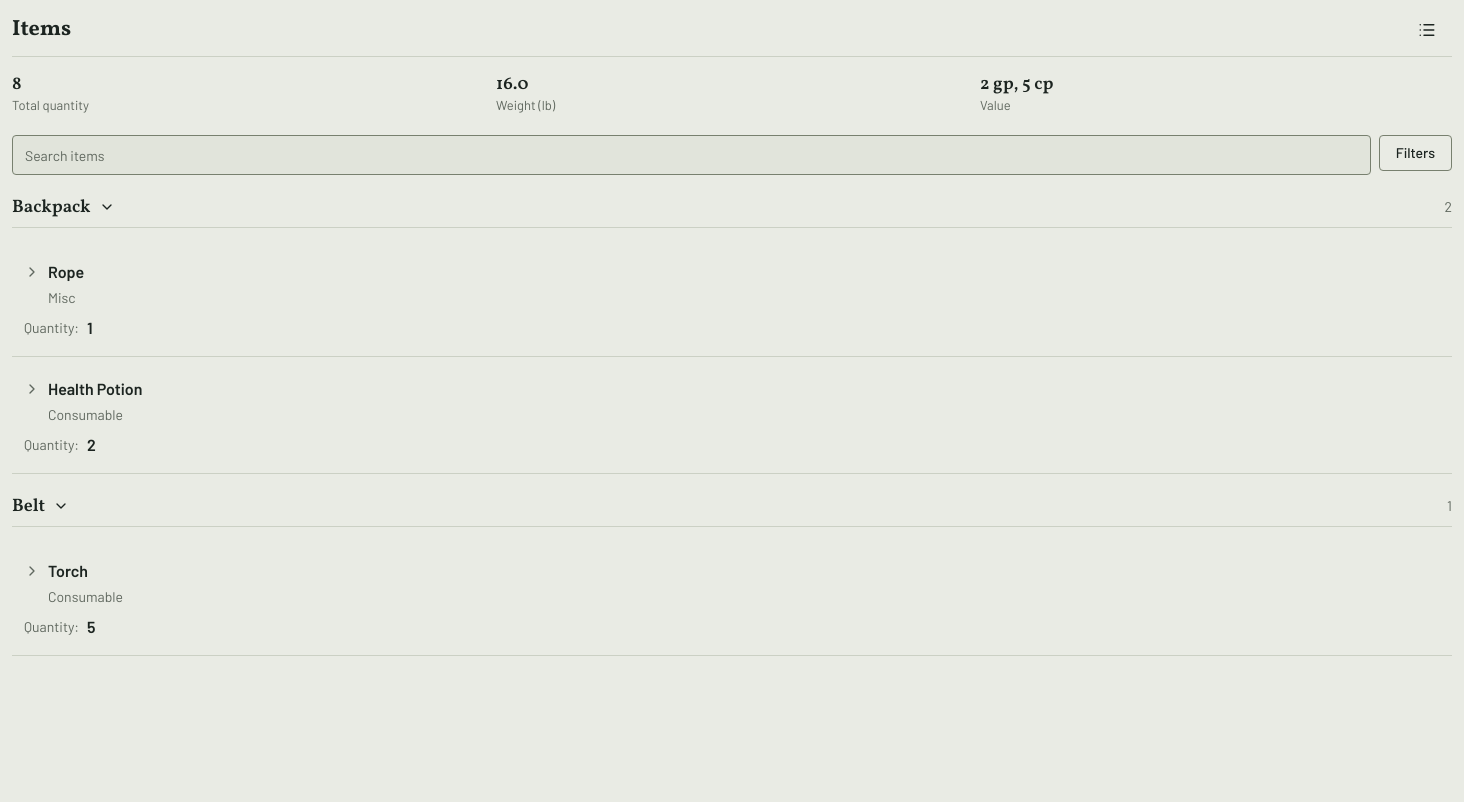
Test: InventoryManager › keeps manager details visible when a filtered row remounts
This screenshot has width=1464, height=802.
Step 1. Click the button named "Show item details" → (1427, 30), box left=1402, top=12, right=1452, bottom=48
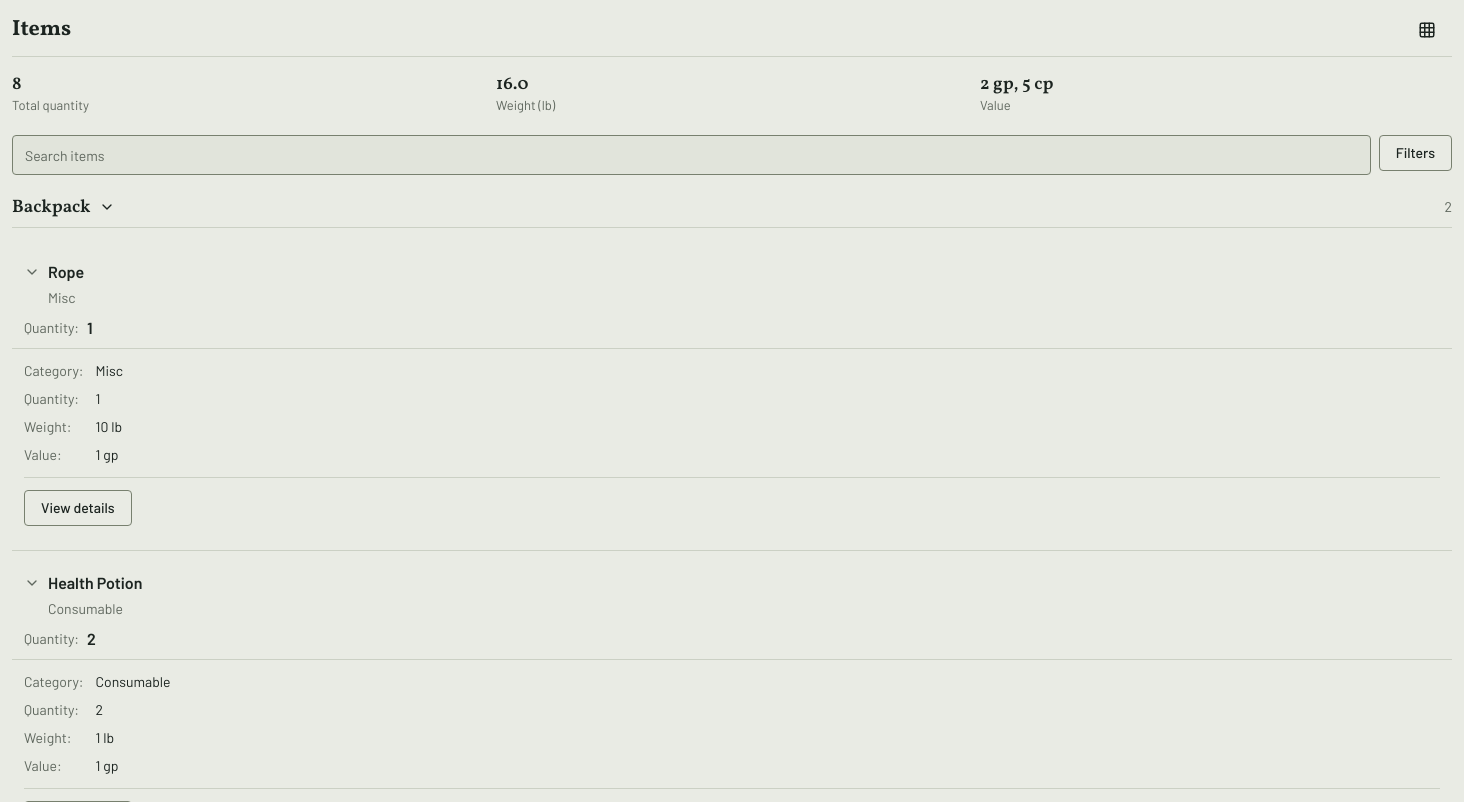
Step 2. Type "Torch" into the search field labelled "Search items" → (691, 155), box left=12, top=135, right=1371, bottom=175
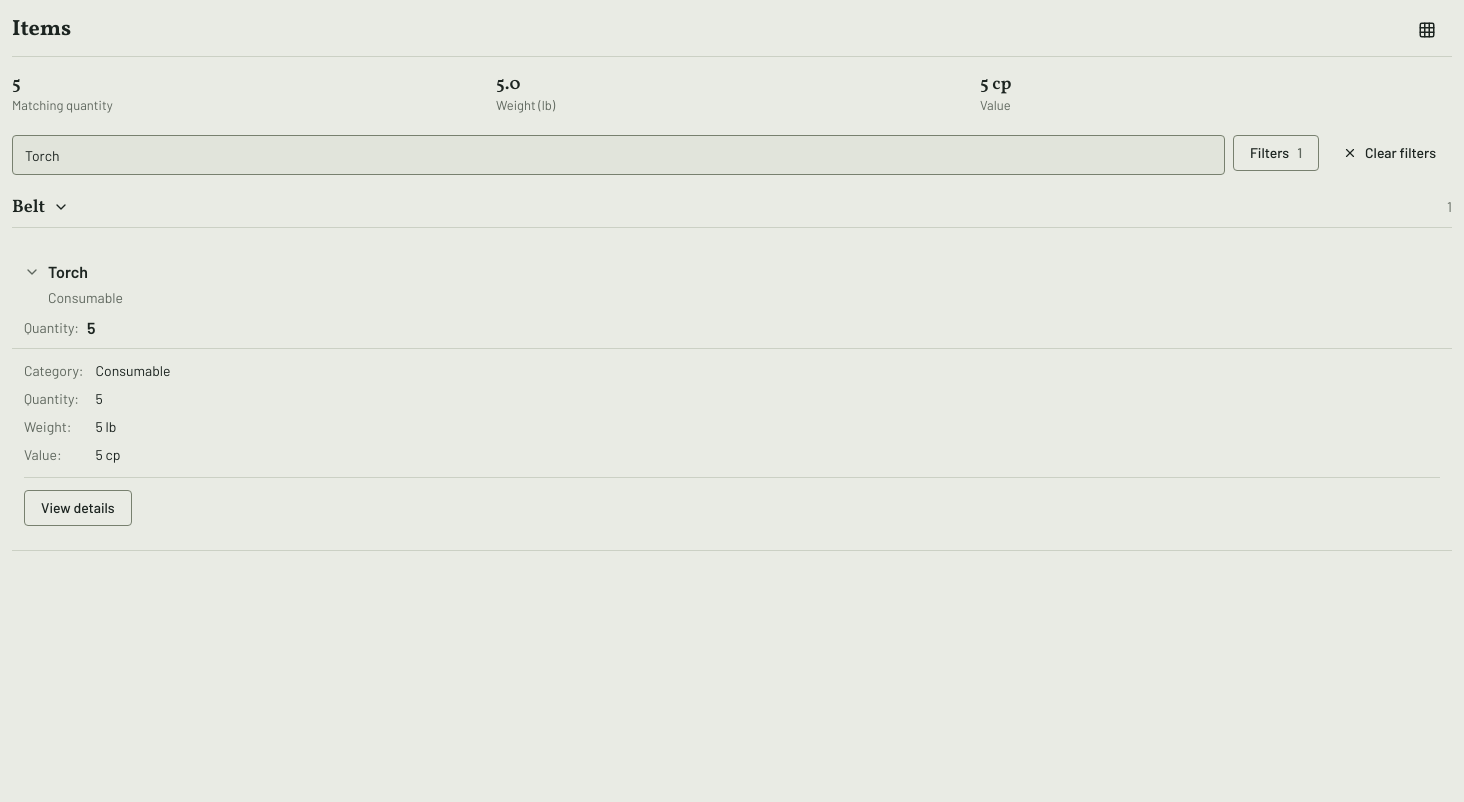
Step 3. Clear the search field named "Search items" → (618, 155), box left=12, top=135, right=1225, bottom=175
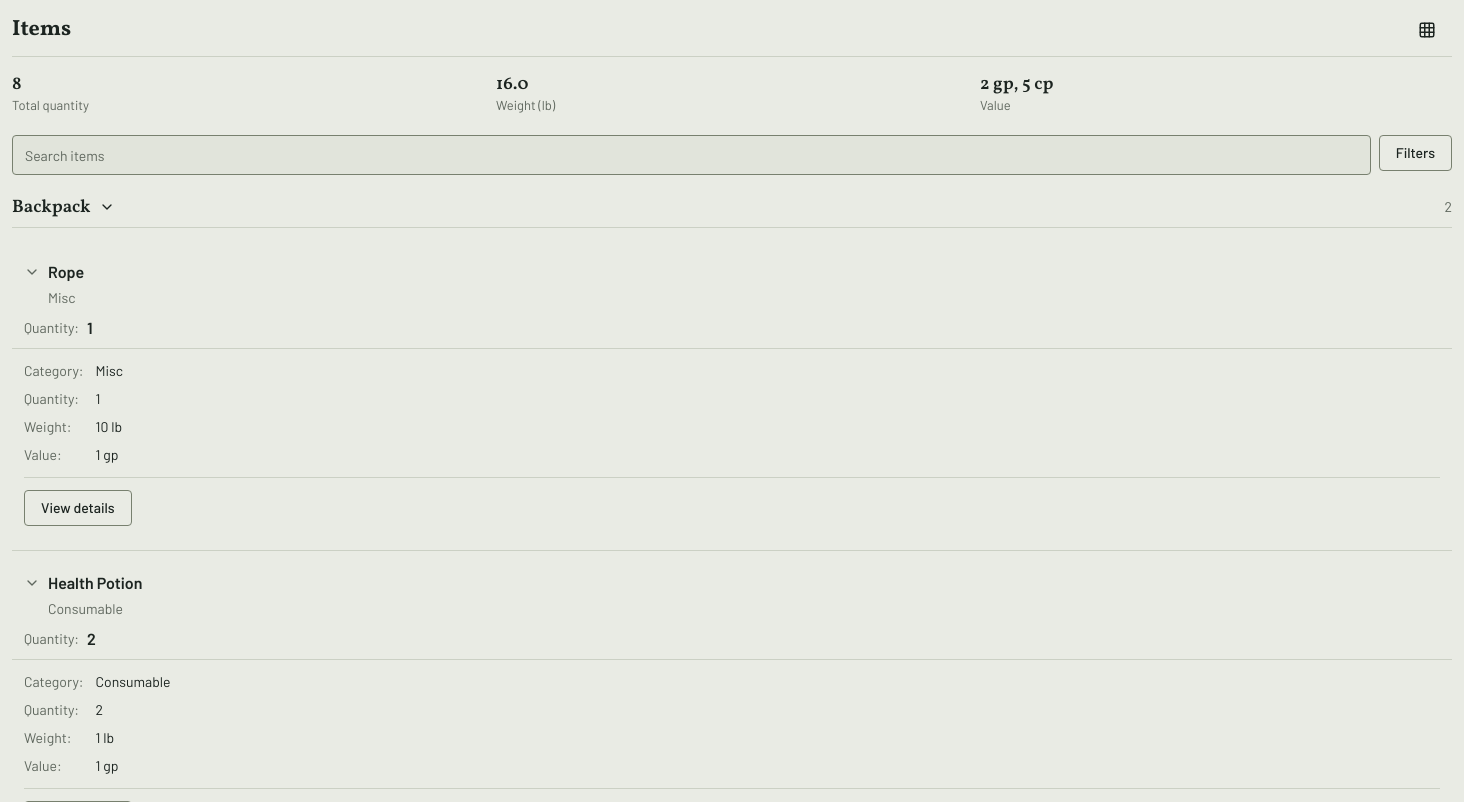
expect the button with aria-label "Details: Rope" is expanded: met, box left=12, top=252, right=1452, bottom=316
expect the text "10 lb" is shown: met, box left=96, top=418, right=122, bottom=435
